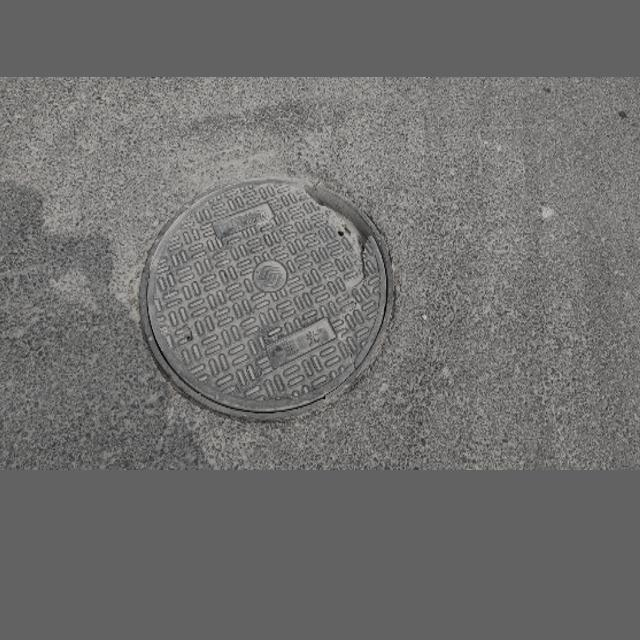broke: (138, 176, 395, 421)
